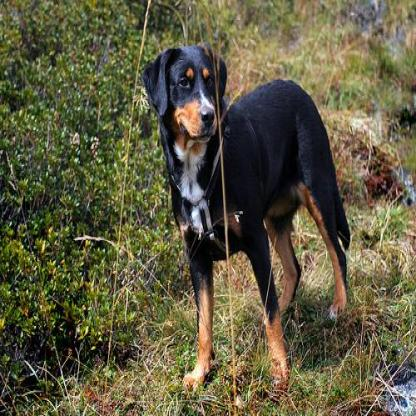Appenzeller: (141, 44, 347, 388)
